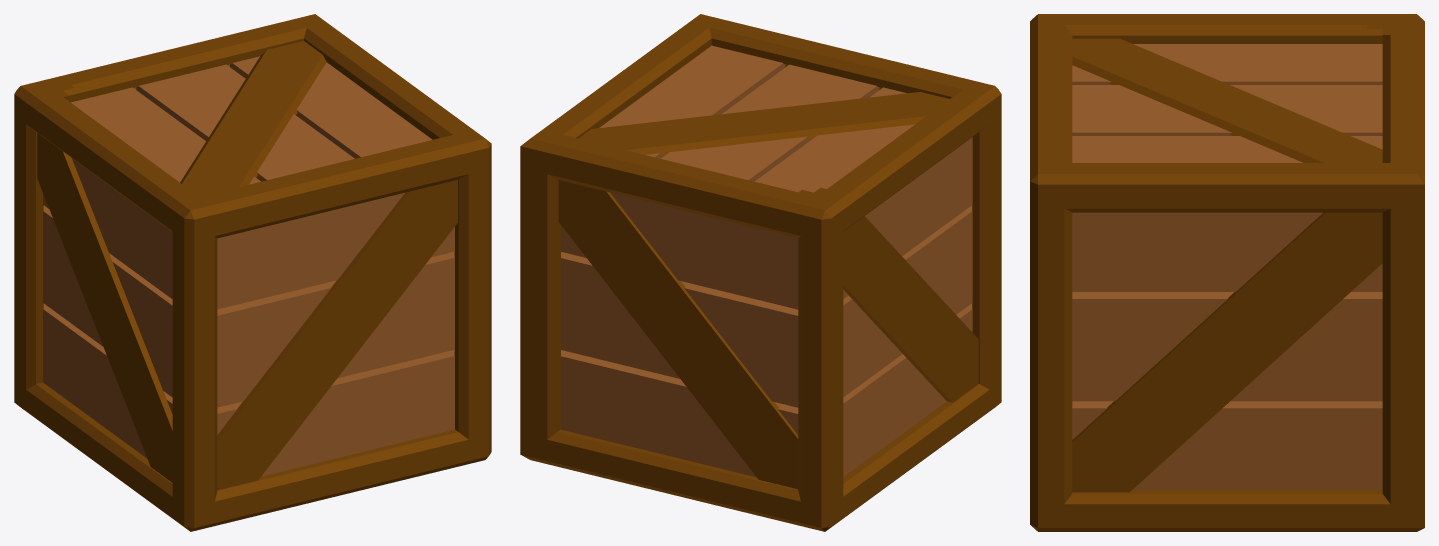
File: woodbox.fbx
3 views of the same model, side by side, from view 1: azimuth 30°, elevation 25°; view 2: azimuth 150°, elevation 25°; view 3: azimuth 270°, elevation 25° (orthographic). The views are drawn at different scales.
Visible parts, largest first — view 1: Cube.006; view 2: Cube.006; view 3: Cube.006.
Boxes of the visible parts, bbox=[...] form: Cube.006: bbox=[14, 14, 491, 531]; Cube.006: bbox=[520, 14, 1001, 531]; Cube.006: bbox=[1030, 14, 1424, 531].
Bounding box in the file's own units: 218 × 218 × 218.
